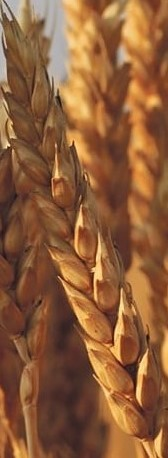Healthy Wheat: (6, 22, 168, 433)
